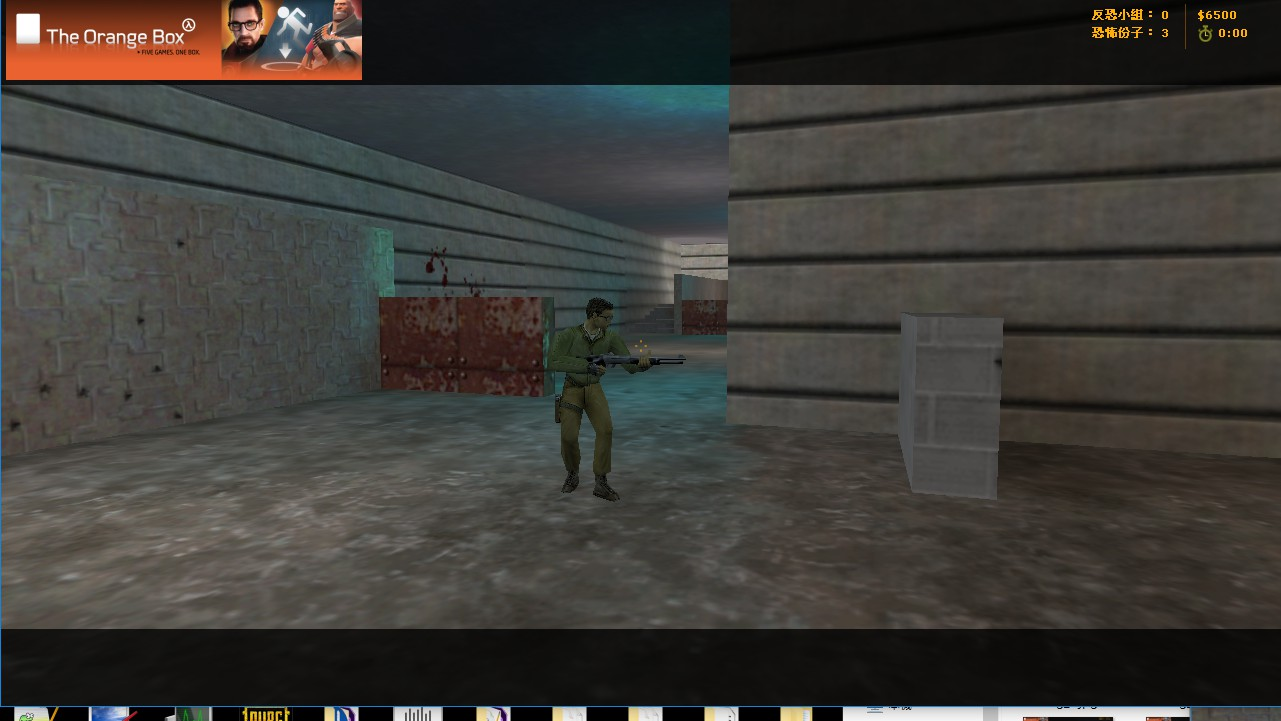person: (554, 286, 635, 503)
